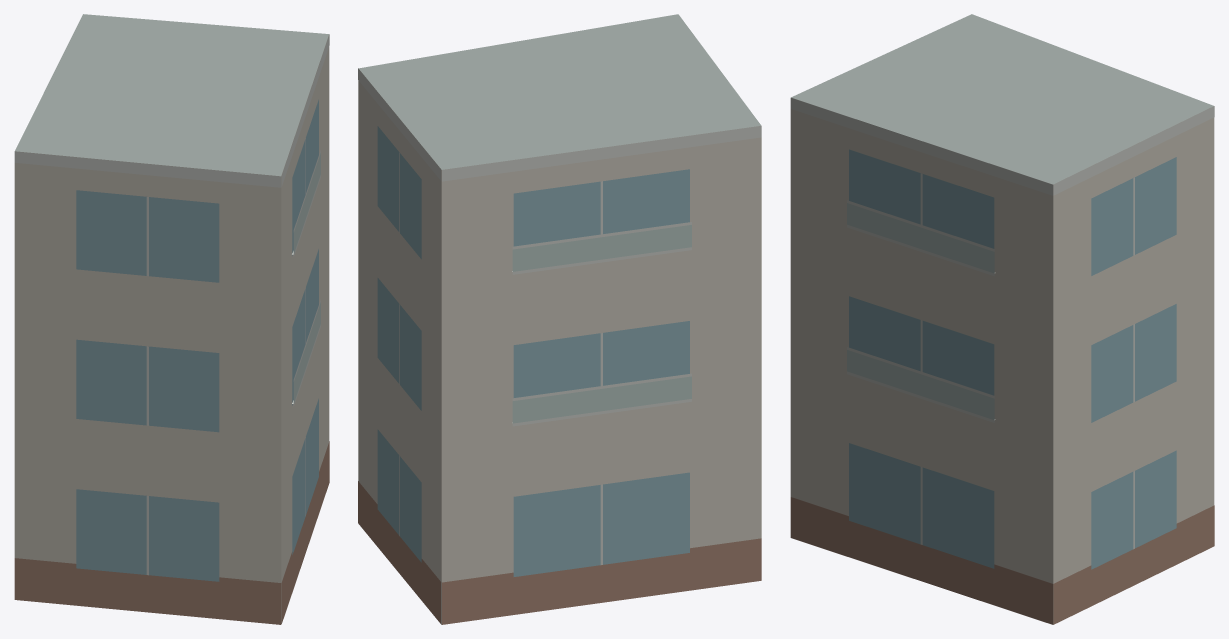
File: survey-upis-32469521.glb
The picture shows the model from 3 angles, left to right: view 1: azimuth 30°, elevation 25°; view 2: azimuth 150°, elevation 25°; view 3: azimuth 270°, elevation 25°; orthographic projection. The views are drawn at different scales.
Parts seen in each view (by area): view 1: survey-upis-32469521.tmp; view 2: survey-upis-32469521.tmp; view 3: survey-upis-32469521.tmp.
Part boxes in pixels (bbox=[...]): survey-upis-32469521.tmp: bbox=[14, 14, 329, 624]; survey-upis-32469521.tmp: bbox=[358, 14, 761, 624]; survey-upis-32469521.tmp: bbox=[790, 14, 1214, 624].
Size of the model in its own units: 7.9 by 9.5 by 8.29.
